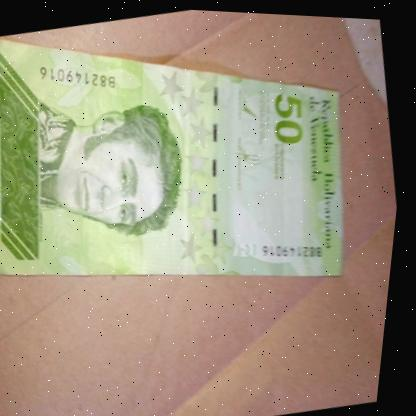fifty-front-vef: (0, 0, 380, 337)
